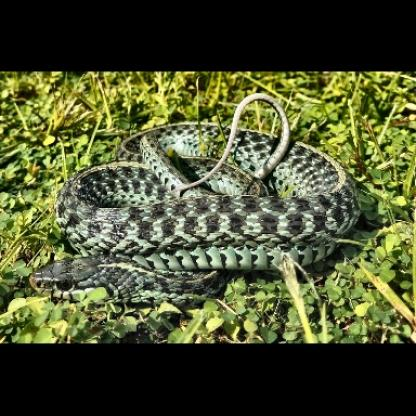Snake: (26, 109, 366, 308)
